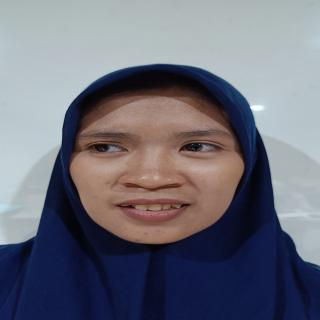Takut: (64, 84, 246, 245)
